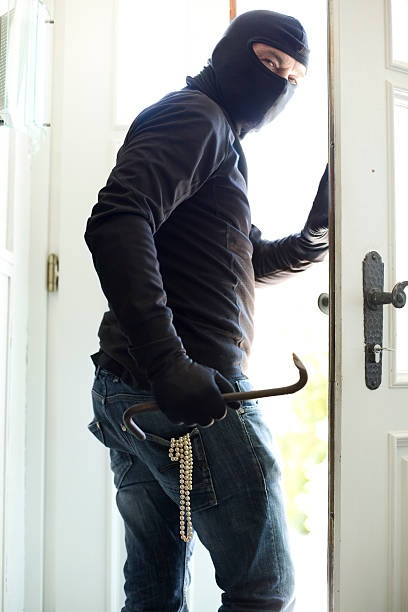gun: (90, 1, 318, 612)
robbery mask: (213, 5, 309, 135)
